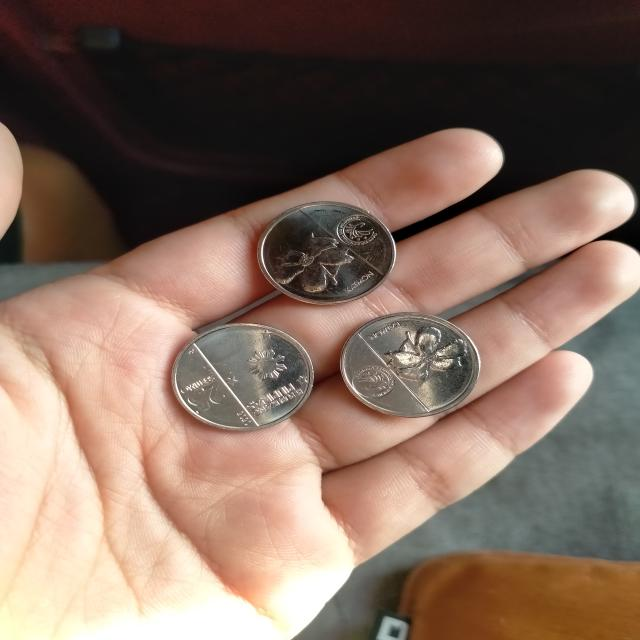25Cent_New_Back: (268, 228, 357, 294), (372, 321, 460, 384)
25Cent_New_Front: (175, 377, 232, 416)
